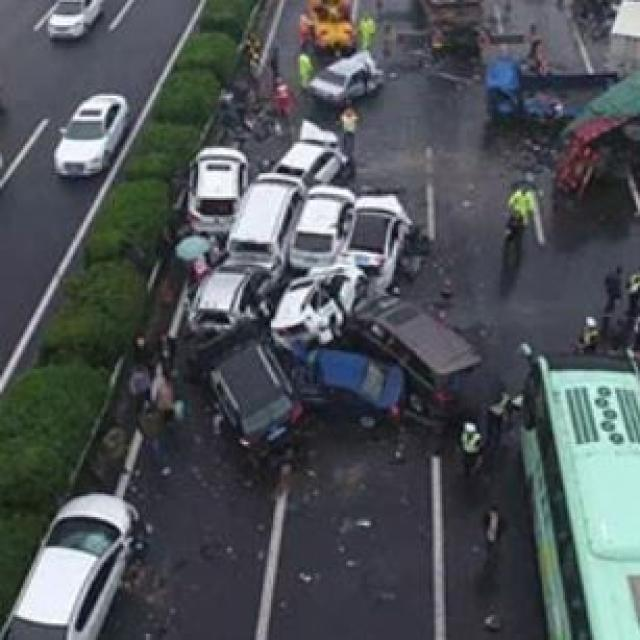traffic_incident: (138, 125, 488, 450)
